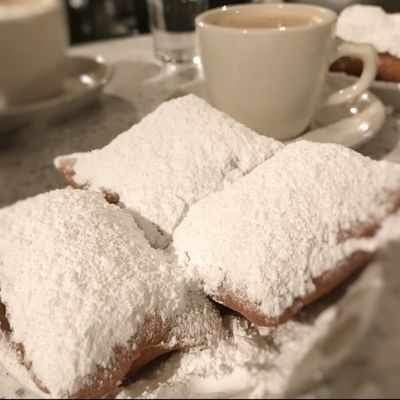pizza: (195, 1, 340, 141), (146, 0, 210, 65)
soup: (172, 138, 400, 327)
